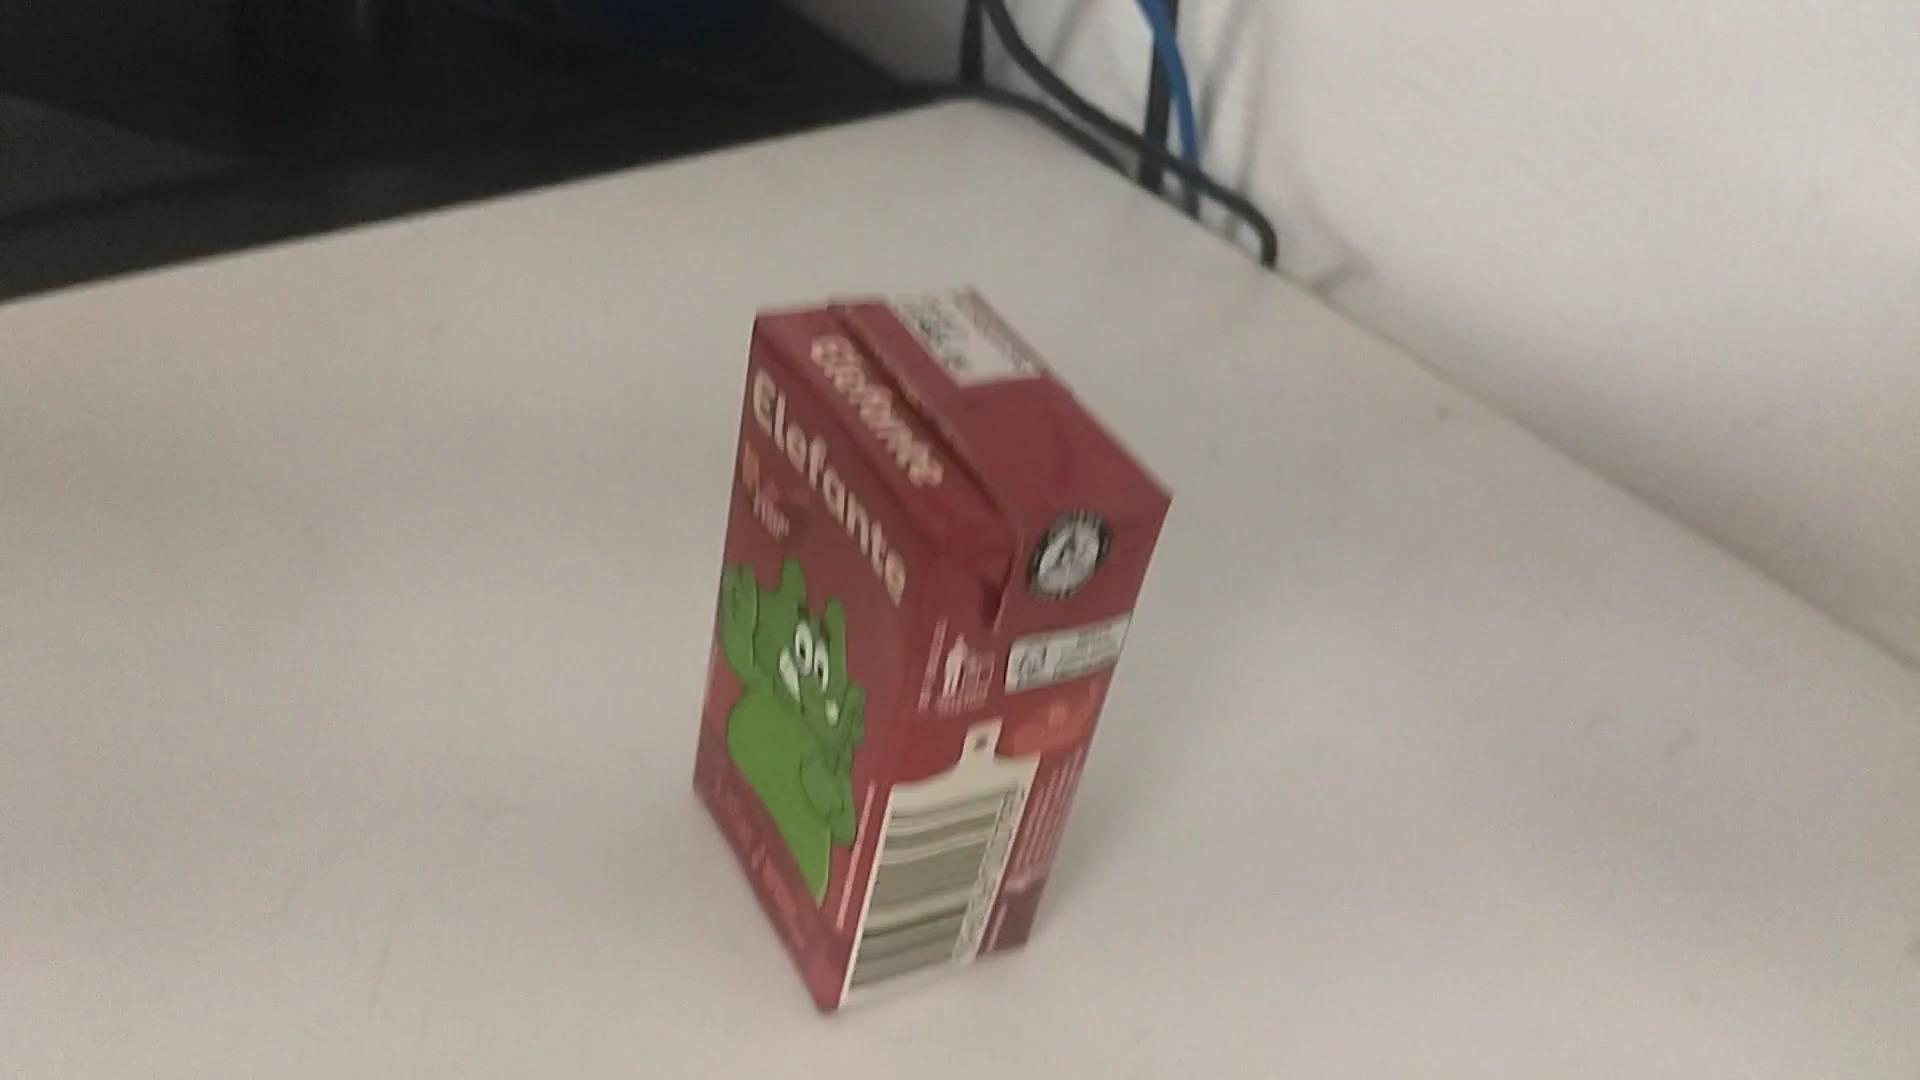tomate: (692, 260, 1184, 1009)
